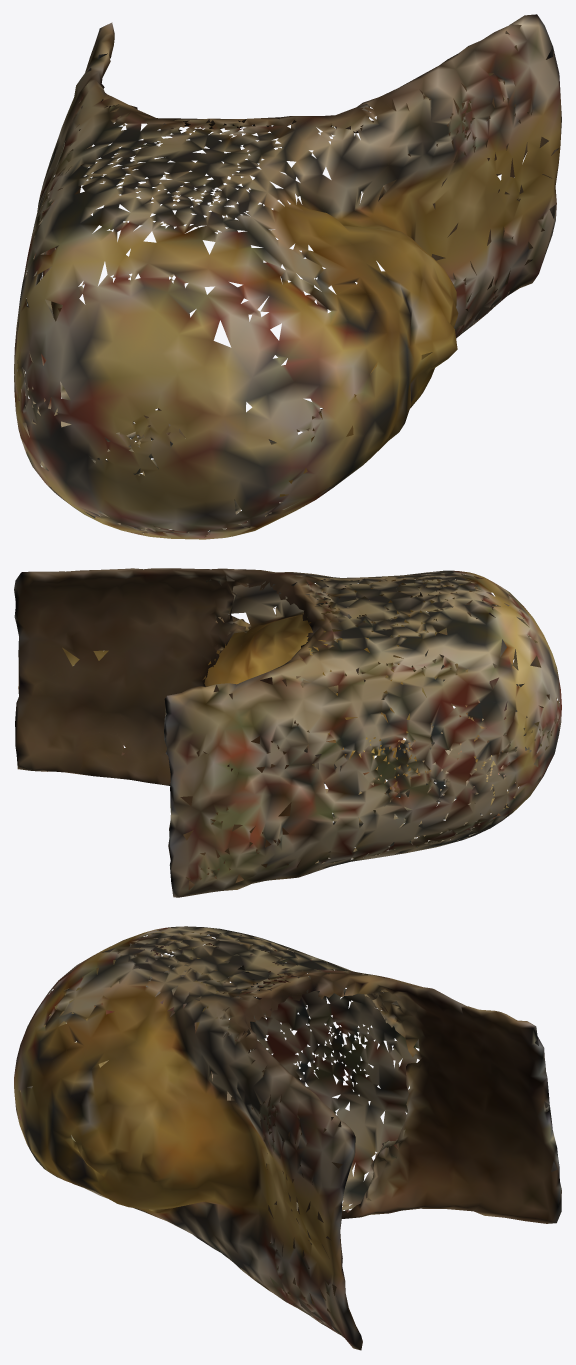
The model's file is MOMIA MASCARA.obj.
3 views of the same model, one above another, from view 1: azimuth 30°, elevation 25°; view 2: azimuth 150°, elevation 25°; view 3: azimuth 270°, elevation 25° (orthographic). The views are drawn at different scales.
Size of the model in its own units: 9.09 by 4.52 by 8.55.
Materials: 1 (1 with a texture image).
